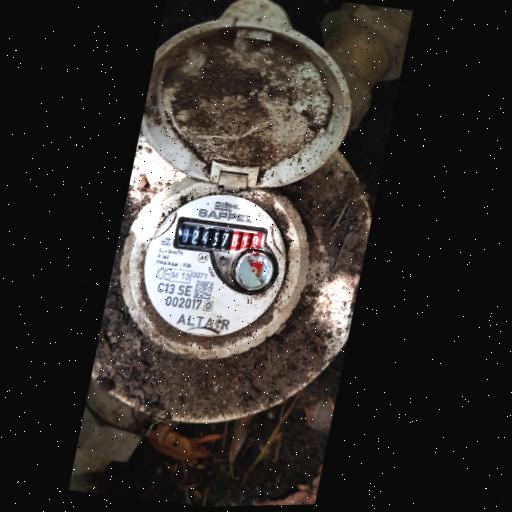0: (180, 224, 194, 245)
1: (239, 232, 251, 251)
2: (188, 226, 202, 246)
4: (198, 228, 213, 248)
5: (209, 229, 223, 250)
7: (219, 230, 233, 250)
8: (227, 231, 242, 252)
9: (250, 231, 262, 249)
border_water_meter_number: (171, 215, 269, 261)
